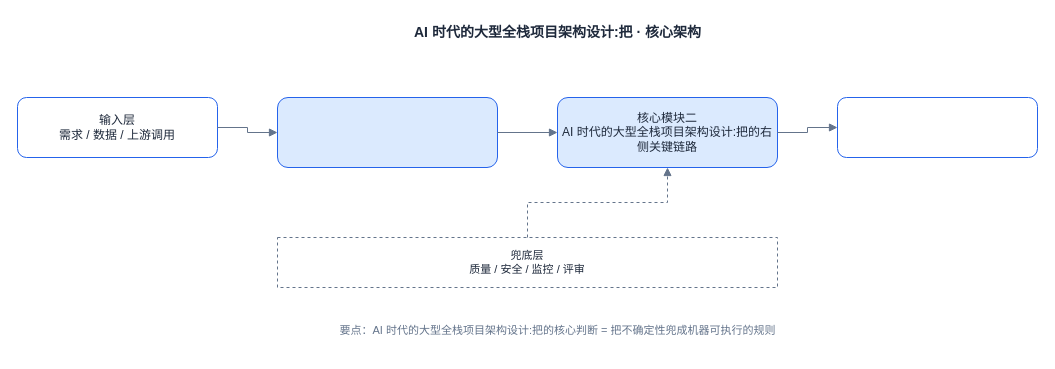
Some shapes in this 1055 by 369 pixel diagram are drawn without their labels. The box of each missing label's shape, as (x1, y1, x2, y2) in pixels:
核心模块一 AI 时代的大型全栈项目架构设计:把的左侧关键链路: (276, 96, 498, 168)
输出 / 结果 产物 / 上线 / 反馈: (836, 96, 1038, 158)
